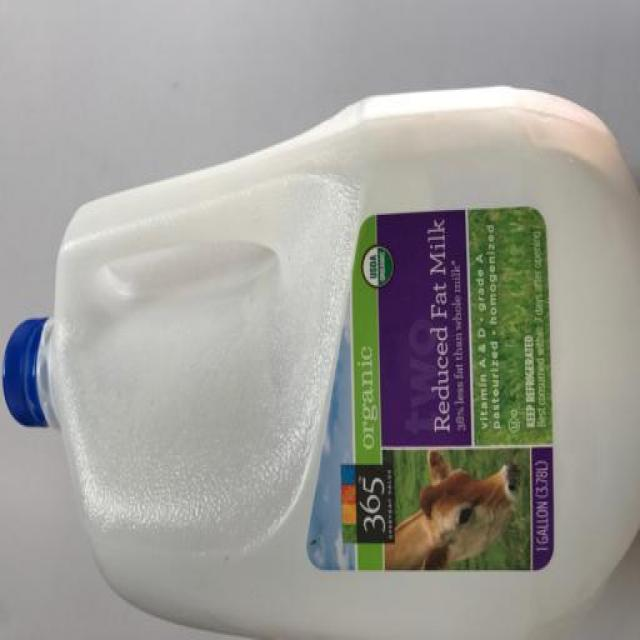plastic_bottle: (1, 58, 637, 639)
